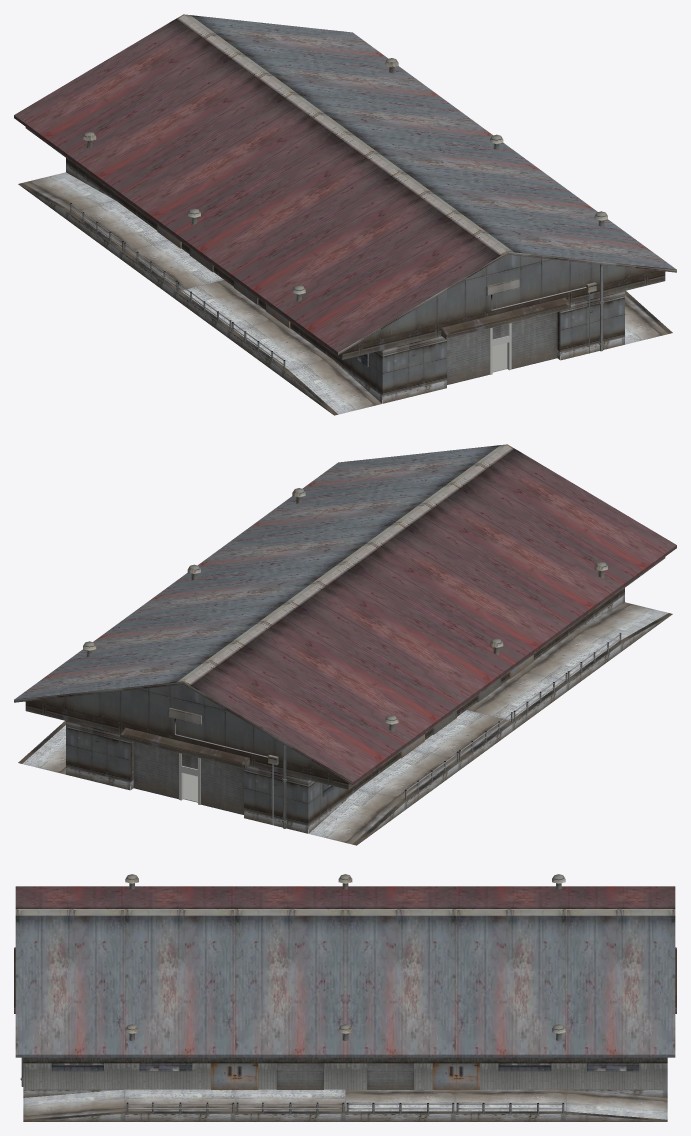
Rendered from ind-warehouse-5.zfix-v14.lod0.glb.
The picture shows the model from 3 angles, top to bottom: view 1: azimuth 30°, elevation 25°; view 2: azimuth 150°, elevation 25°; view 3: azimuth 270°, elevation 25°; orthographic projection.
Parts seen in each view (by area): view 1: Industrial_Warehouse_5_Industrial_Walls_FLR_1_0, Industrial_Warehouse_5_Material #140_0; view 2: Industrial_Warehouse_5_Industrial_Walls_FLR_1_0, Industrial_Warehouse_5_Material #140_0; view 3: Industrial_Warehouse_5_Industrial_Walls_FLR_1_0, Industrial_Warehouse_5_Material #140_0.
Boxes of the visible parts, bbox=[...] form: Industrial_Warehouse_5_Industrial_Walls_FLR_1_0: bbox=[14, 14, 676, 395]; Industrial_Warehouse_5_Material #140_0: bbox=[18, 164, 672, 415]; Industrial_Warehouse_5_Industrial_Walls_FLR_1_0: bbox=[14, 444, 676, 828]; Industrial_Warehouse_5_Material #140_0: bbox=[18, 594, 672, 845]; Industrial_Warehouse_5_Industrial_Walls_FLR_1_0: bbox=[14, 874, 676, 1113]; Industrial_Warehouse_5_Material #140_0: bbox=[23, 1063, 667, 1121].
Size of the model in its own units: 33 by 11.68 by 54.94.
Materials: 4 (2 with a texture image).
